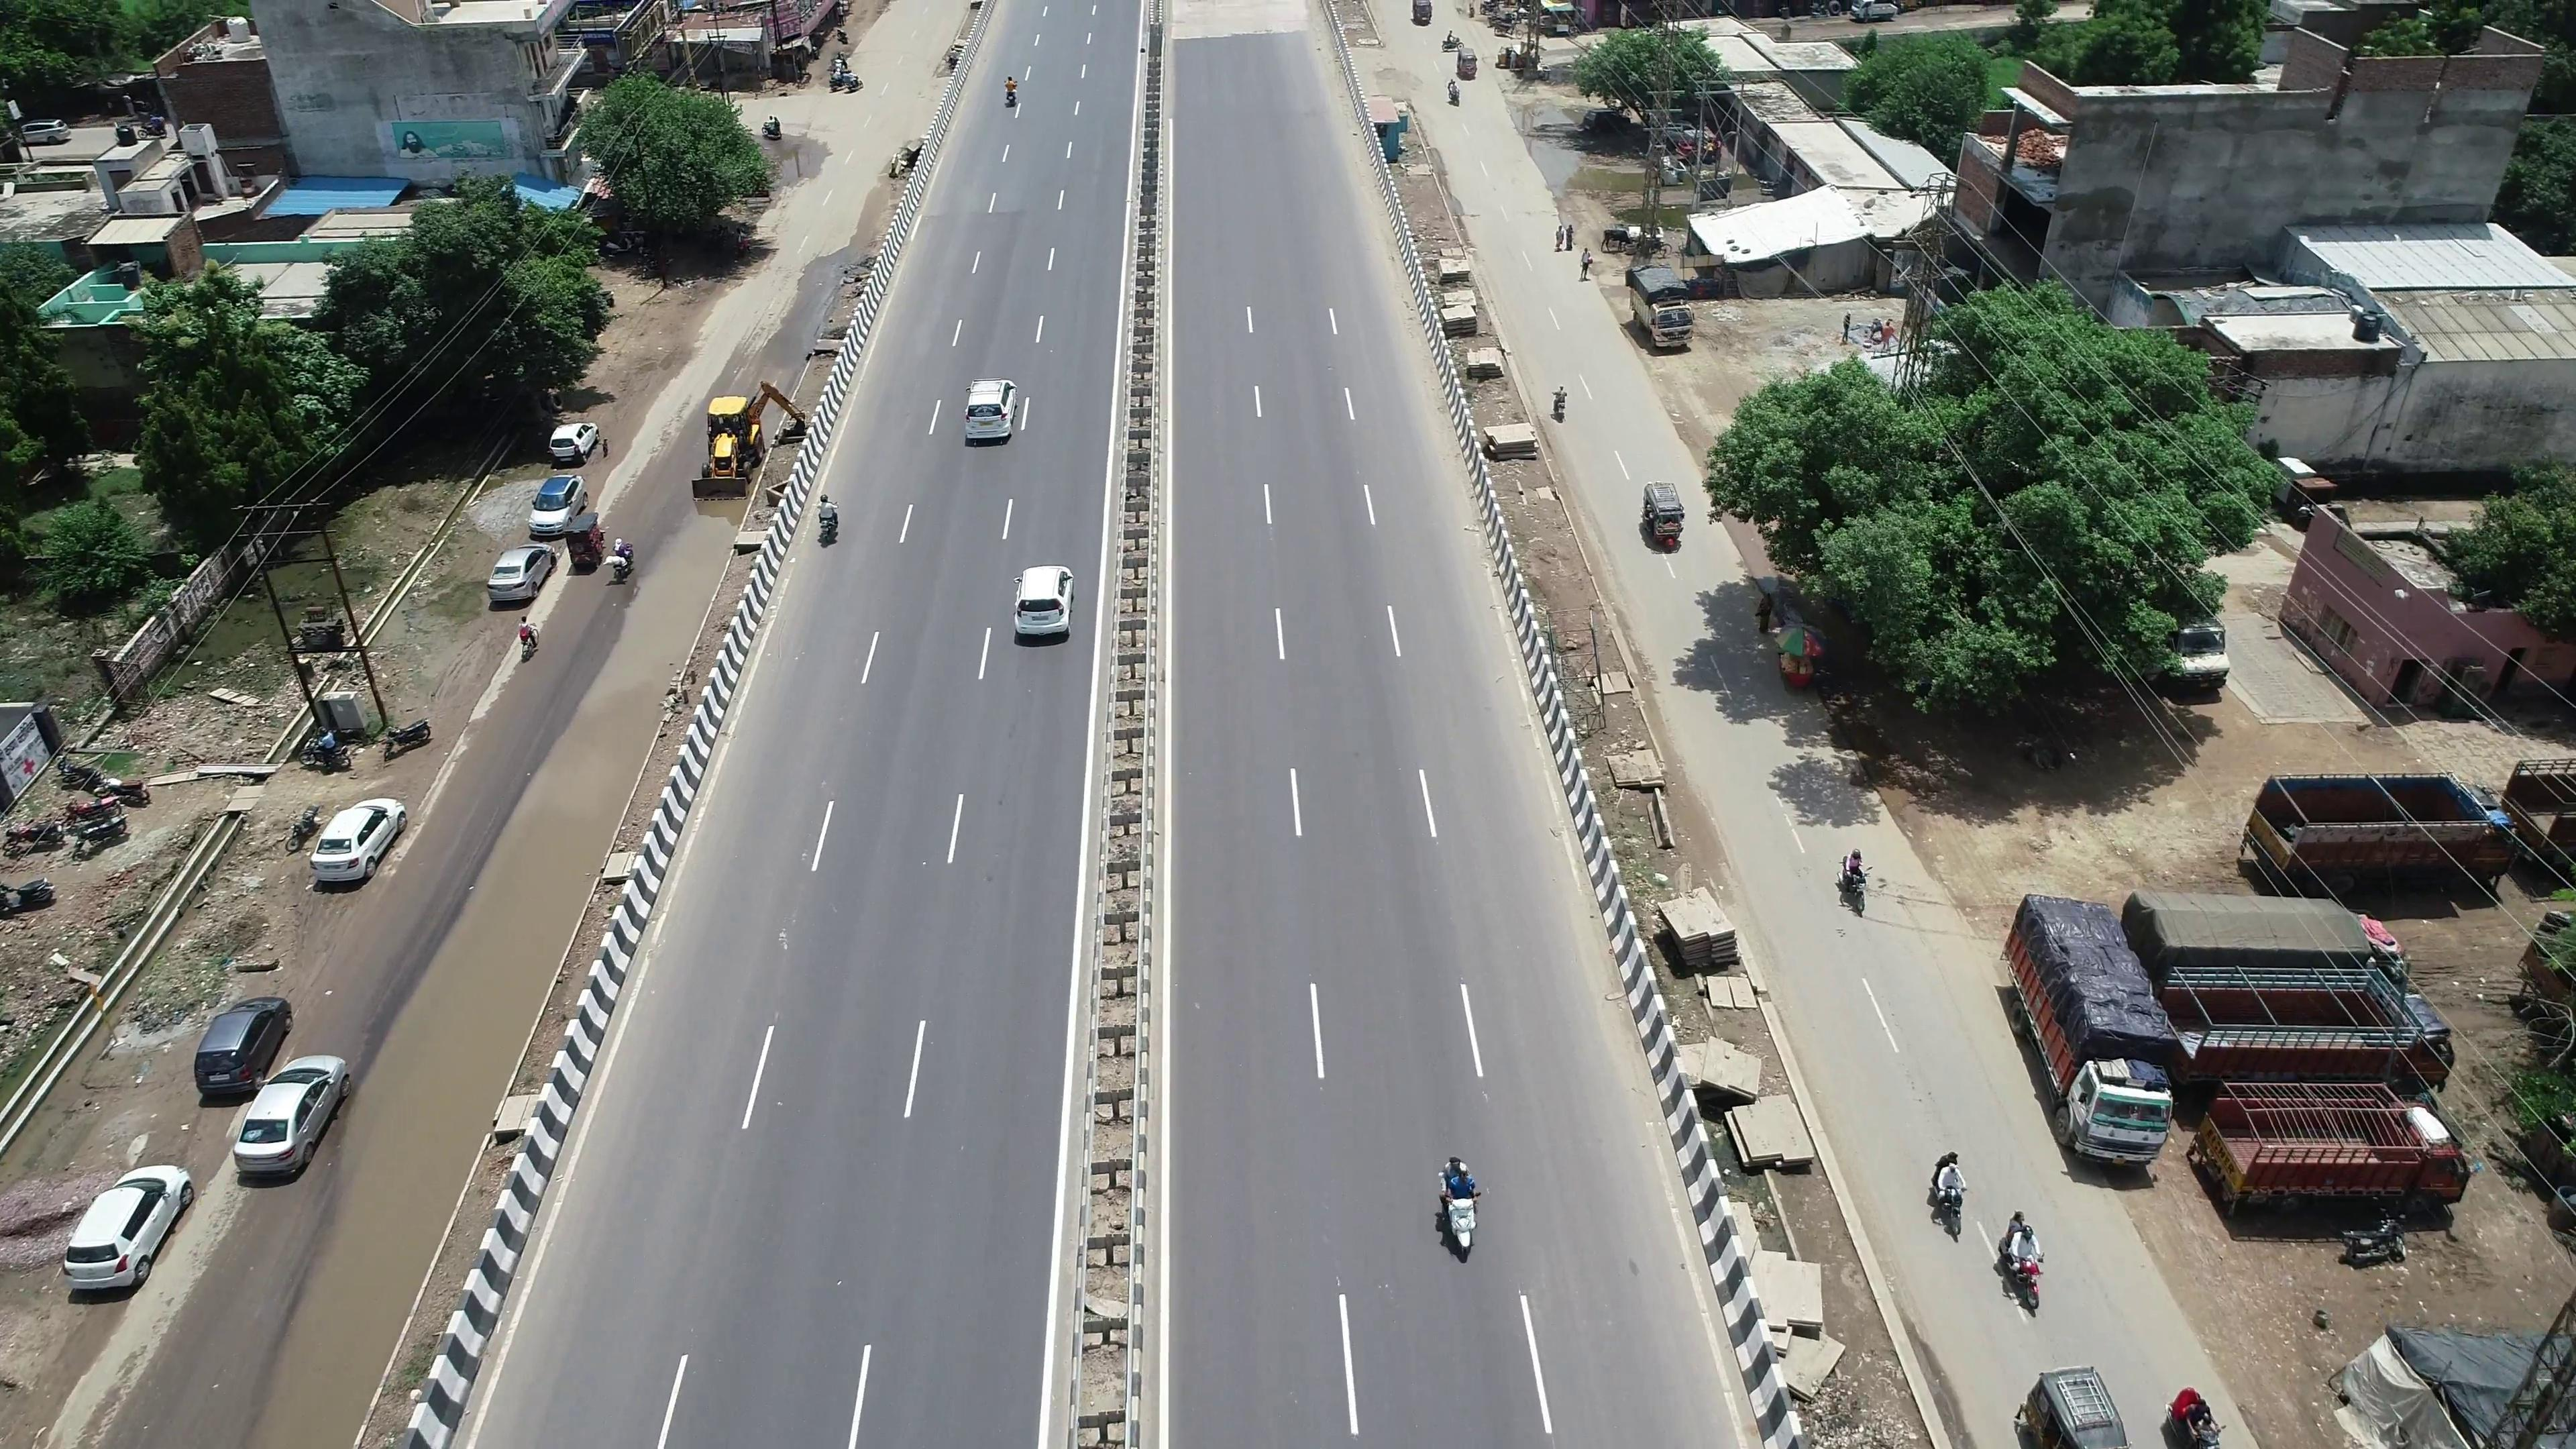Waterlogging: (375, 780, 594, 1123), (566, 580, 697, 750)
